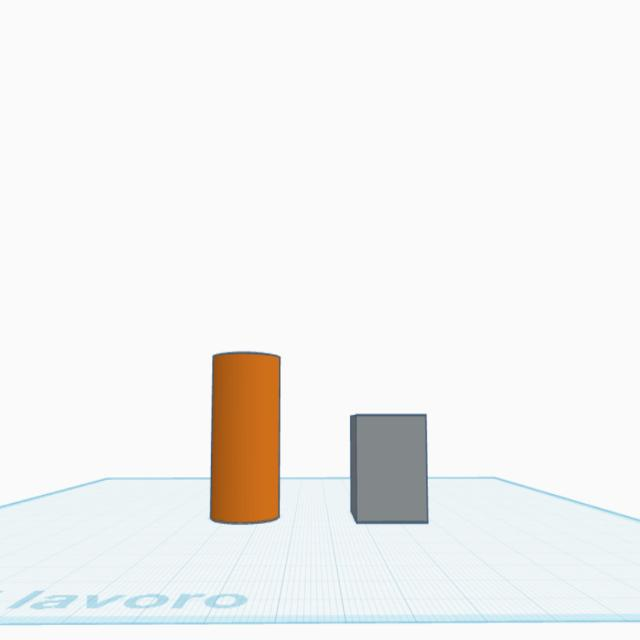cube: (346, 411, 430, 529)
